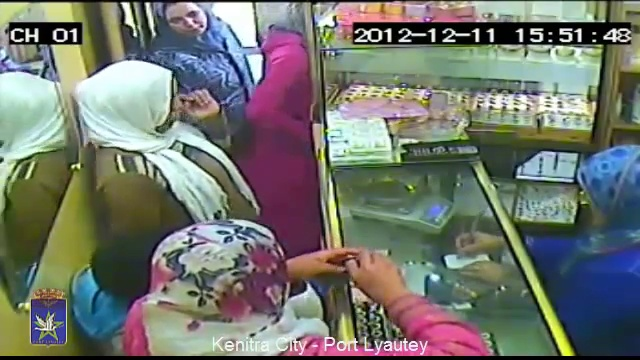face: (172, 4, 208, 41)
